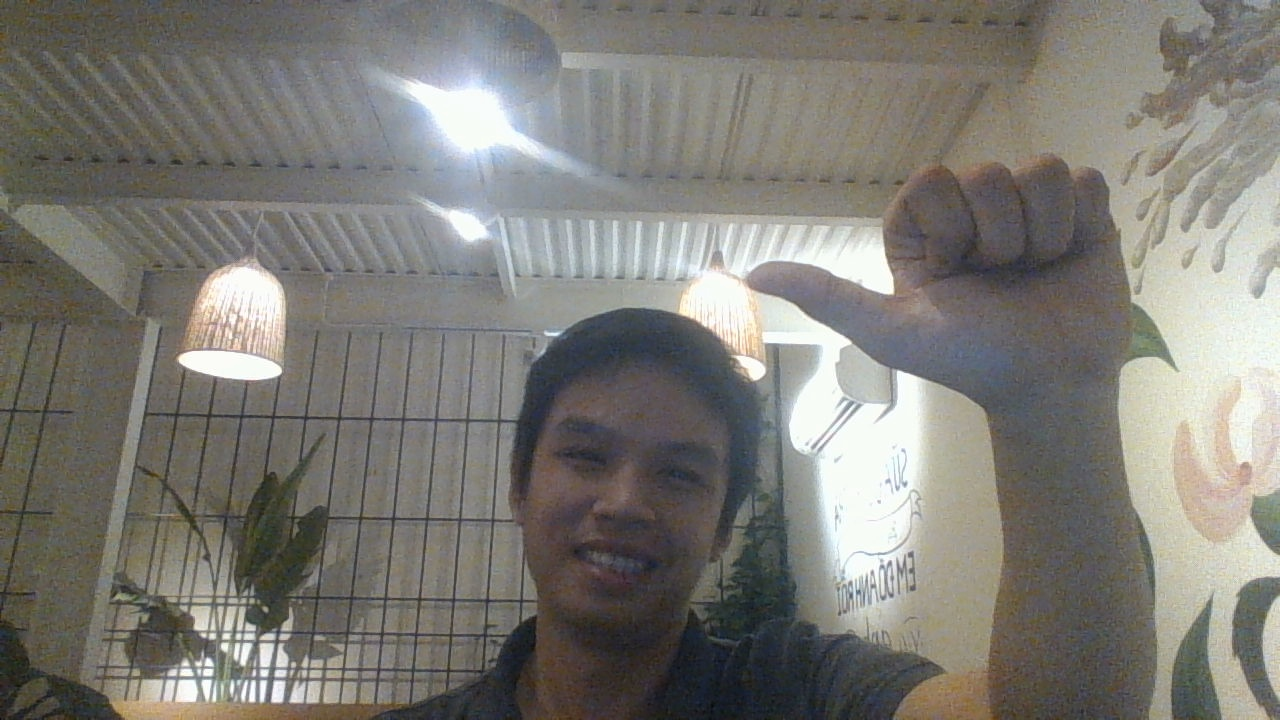back: (745, 152, 1136, 395)
